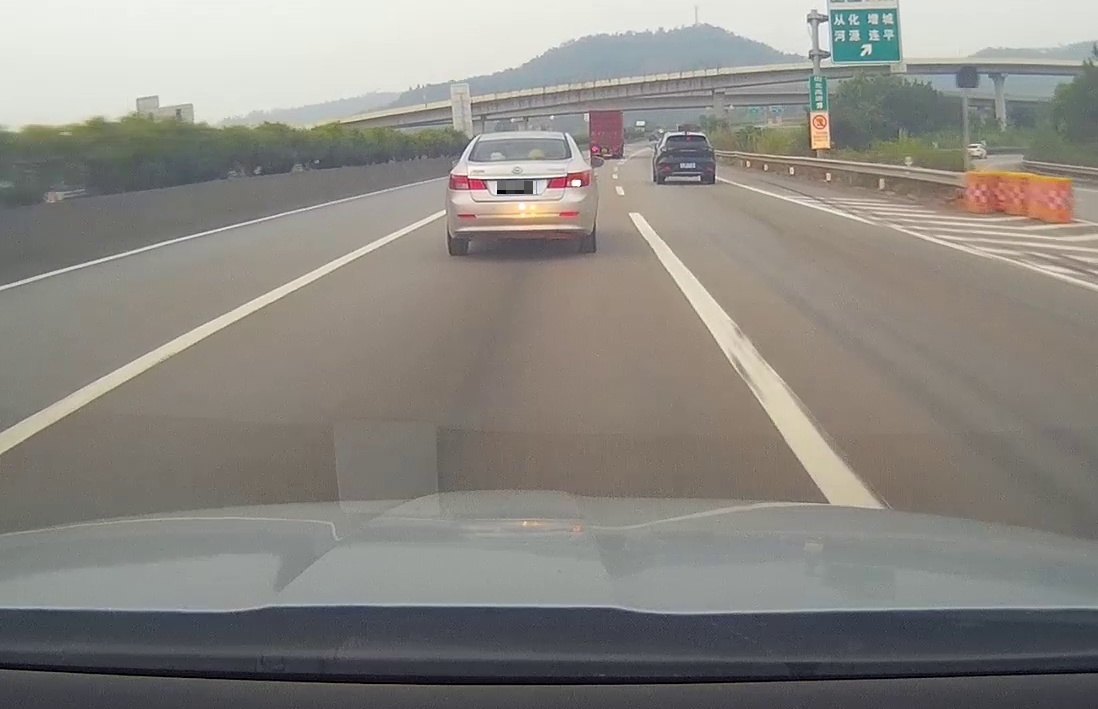L_light: (449, 173, 487, 190), (660, 147, 670, 151)
R_light: (547, 170, 590, 188), (704, 147, 713, 151)
T_light: (510, 139, 531, 143), (684, 136, 691, 138)
day-no: (655, 134, 715, 183)
day-right: (446, 134, 599, 256)
plate_1: (497, 181, 536, 194)
